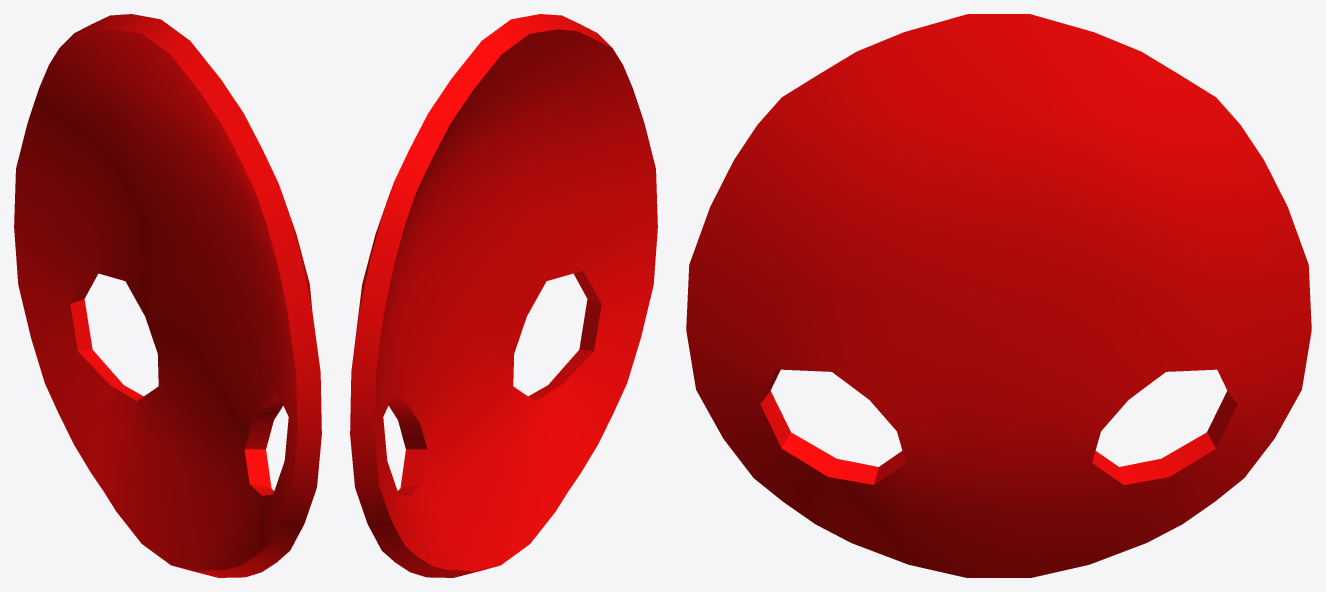
File: 18380_autosave.fbx
3 renders of one model, left to right at view 1: azimuth 30°, elevation 25°; view 2: azimuth 150°, elevation 25°; view 3: azimuth 270°, elevation 25°, orthographic. The views are drawn at different scales.
Parts seen in each view (by area): view 1: Plane.001; view 2: Plane.001; view 3: Plane.001.
Boxes of the visible parts, x1,y1,x2,y2 form: Plane.001: [14, 14, 321, 577]; Plane.001: [350, 14, 657, 577]; Plane.001: [686, 14, 1311, 577].
Size of the model in its own units: 30.14 by 196 by 197.
